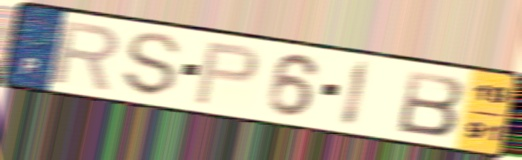6: (264, 52, 323, 118)
B: (394, 67, 468, 139)
I: (337, 57, 375, 131)
P: (191, 40, 262, 108)
R: (49, 17, 123, 93)
S: (121, 30, 185, 100)
